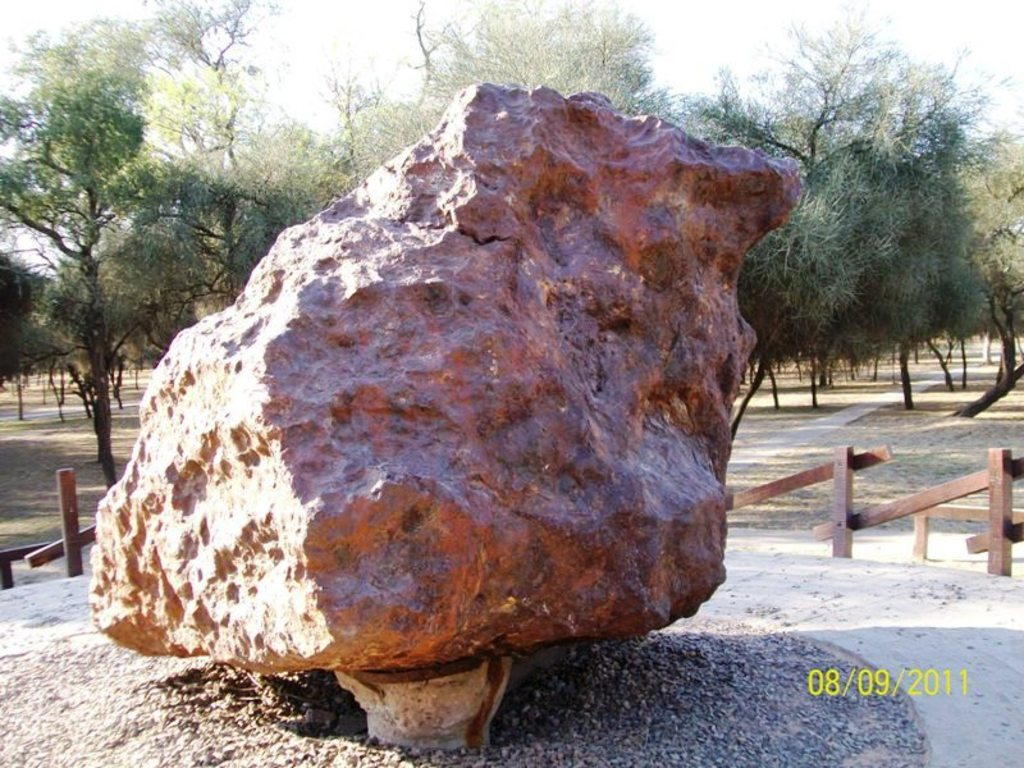Tree: (0, 0, 1023, 490)
